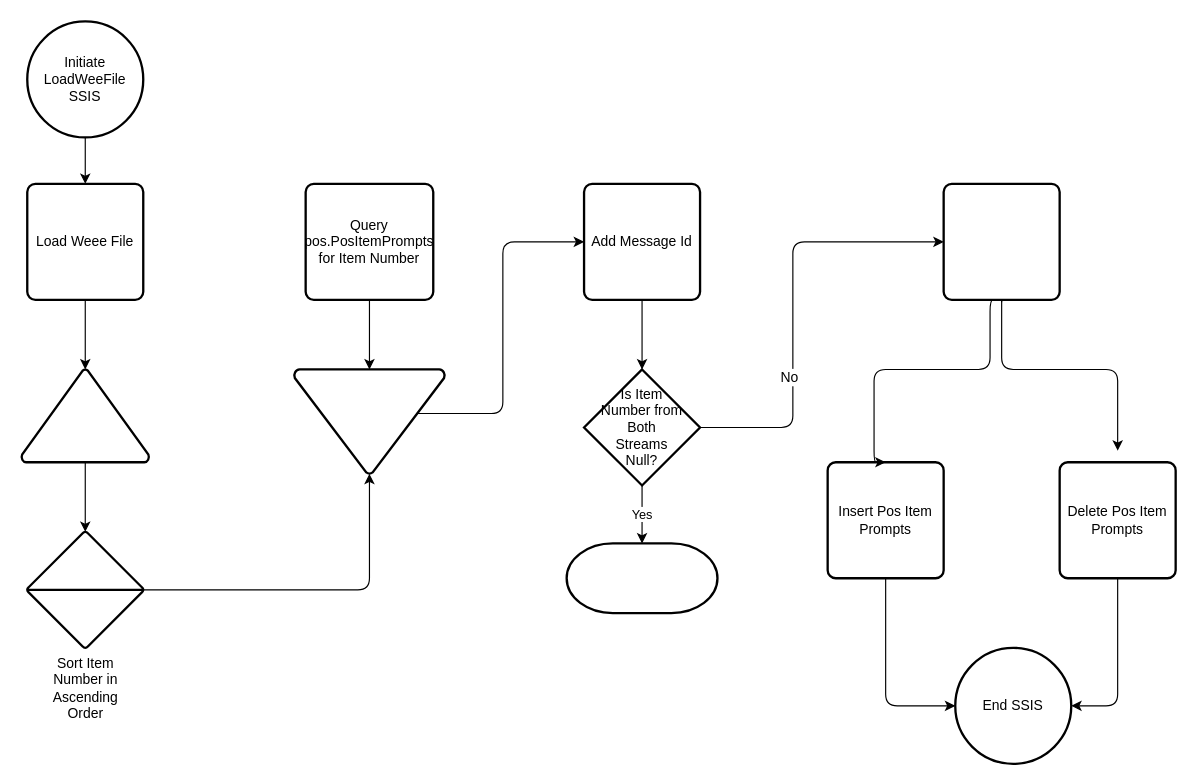
This 1196x784 diagram has some shape labels left out. The centre of each missing label's shape, as x and y in pixels:
"Extract Item Number" belongs at (x=85, y=415).
"Merge Item Numbers" belongs at (x=368, y=421).
"Perform Conditional Split" belongs at (x=1001, y=241).
"Throw Error" belongs at (x=641, y=578).
